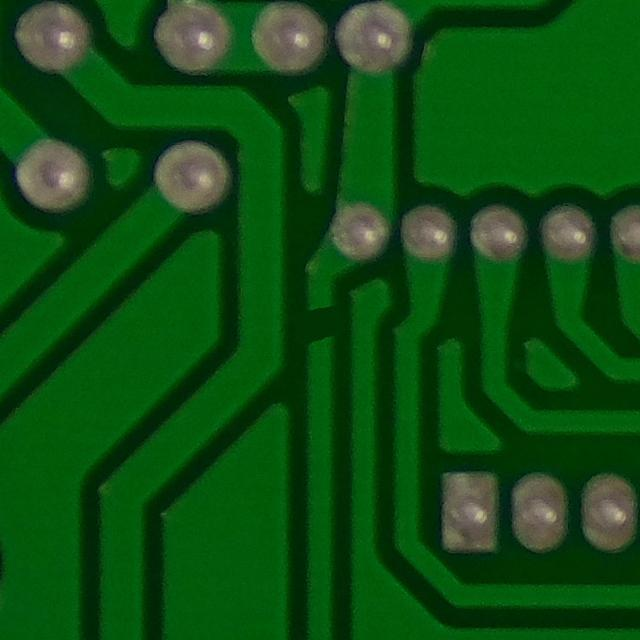open_circuit: (293, 285, 348, 356)
